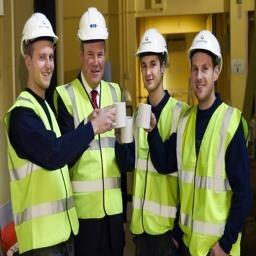hat: (186, 28, 228, 69), (17, 12, 58, 47), (77, 6, 111, 47), (133, 29, 167, 62)
low quality vest: (7, 92, 75, 256), (59, 80, 131, 224), (176, 107, 244, 252), (131, 101, 185, 241)
